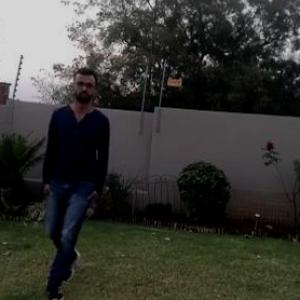follow: (51, 53, 141, 299)
